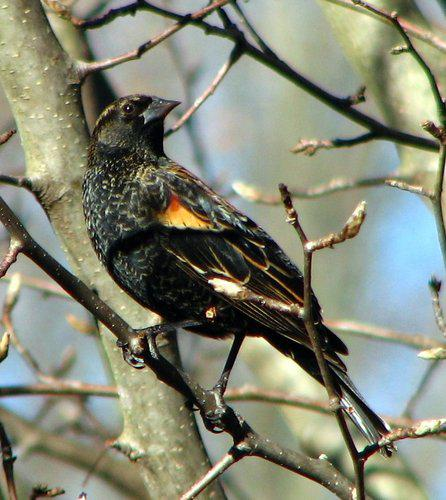010.Red_winged_Blackbird: (79, 96, 397, 456)
